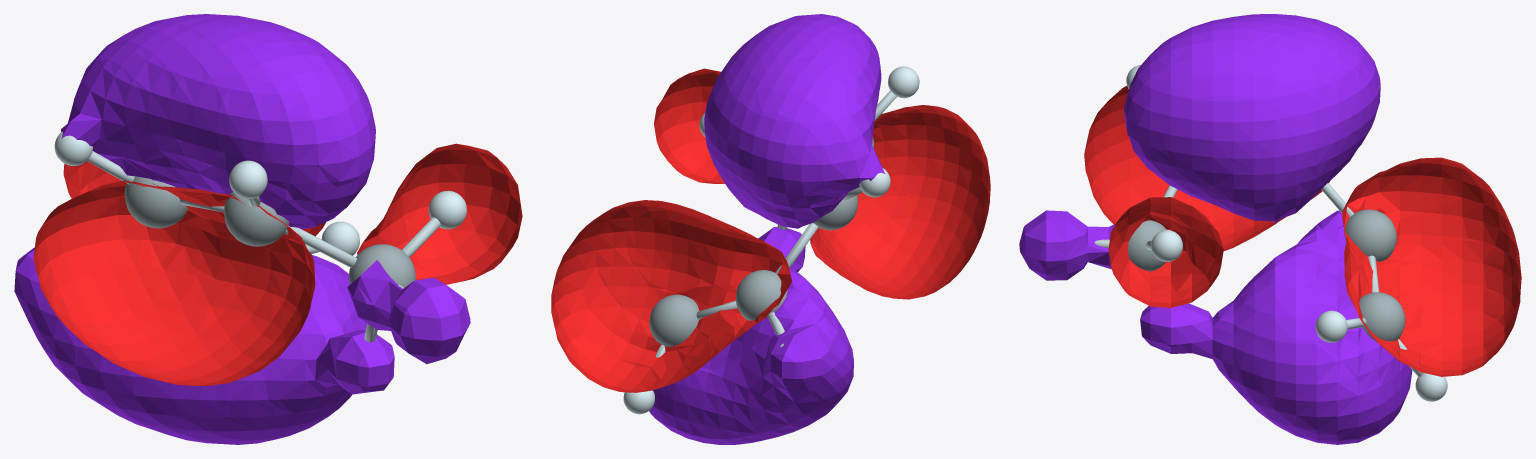
3 views of the same model, side by side, from view 1: azimuth 30°, elevation 25°; view 2: azimuth 150°, elevation 25°; view 3: azimuth 270°, elevation 25° (orthographic). The views are drawn at different scales.
Parts seen in each view (by area): view 1: Renderer Node; view 2: Renderer Node; view 3: Renderer Node.
Part boxes in pixels (x1=…): Renderer Node: x1=14, y1=14, x2=522, y2=444; Renderer Node: x1=551, y1=14, x2=990, y2=444; Renderer Node: x1=1019, y1=14, x2=1521, y2=444.
Size of the model in its own units: 4.97 by 5.26 by 6.24.
